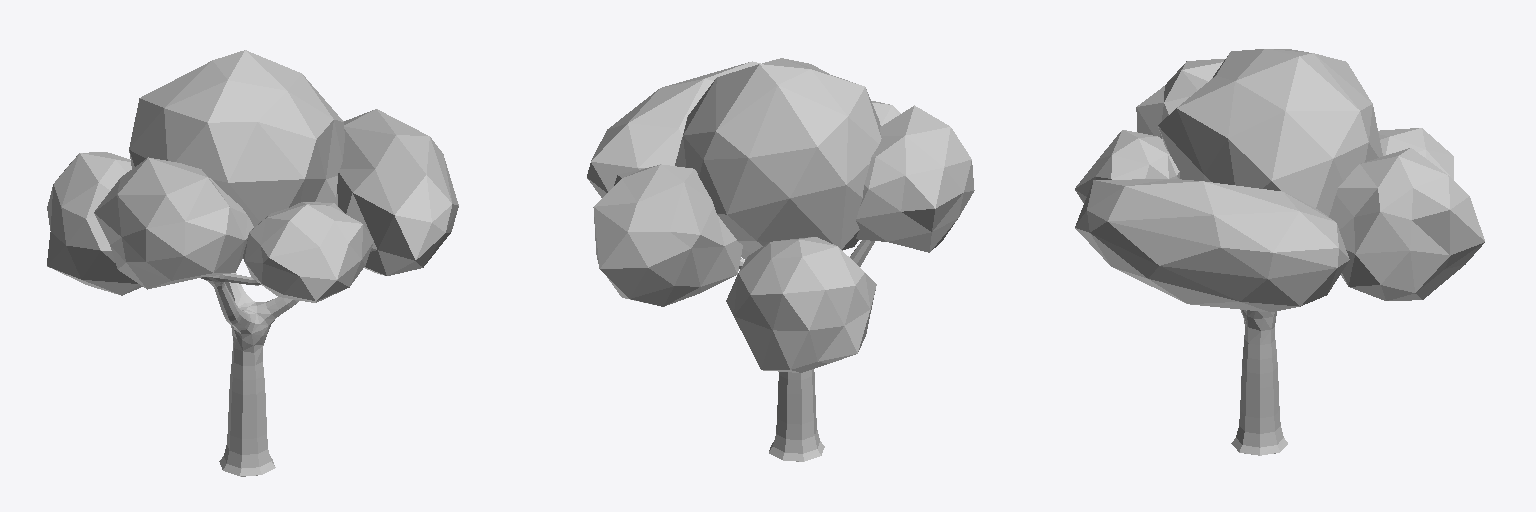
Rendered from arbol.obj.
3 views of the same model, side by side, from view 1: azimuth 30°, elevation 25°; view 2: azimuth 150°, elevation 25°; view 3: azimuth 270°, elevation 25° (orthographic).
Parts seen in each view (by area): view 1: Icosphere, Plane; view 2: Icosphere, Plane; view 3: Icosphere, Plane.
Part boxes in pixels (bbox=[...]): Icosphere: bbox=[47, 50, 458, 302]; Plane: bbox=[201, 273, 298, 476]; Icosphere: bbox=[587, 58, 974, 372]; Plane: bbox=[739, 240, 874, 461]; Icosphere: bbox=[1075, 49, 1484, 311]; Plane: bbox=[1231, 310, 1287, 455].
Bounding box in the file's own units: 5.25 × 6.05 × 5.66.